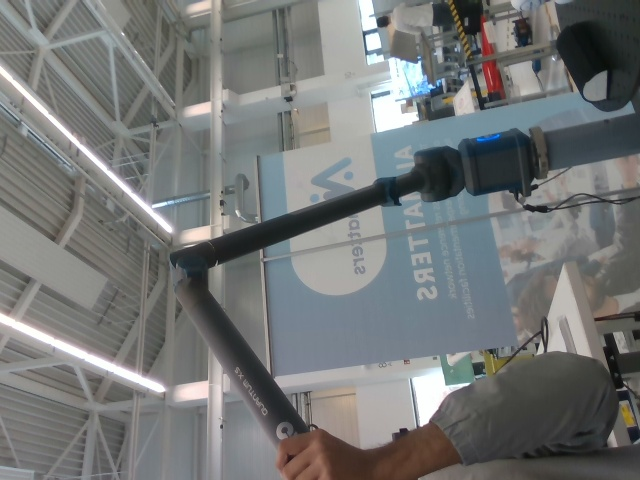Robot arm: (166, 112, 637, 434)
